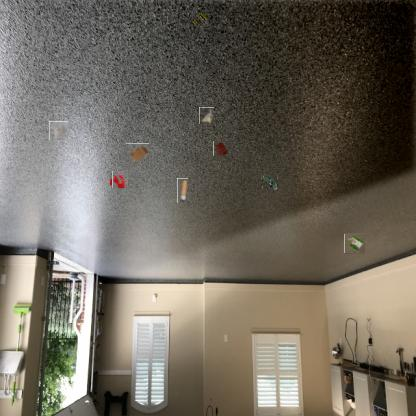dirty: (126, 143, 150, 164), (344, 233, 365, 254), (189, 7, 209, 27), (49, 121, 68, 140), (177, 178, 188, 203), (262, 174, 278, 190), (198, 108, 214, 123)
liquid: (111, 172, 127, 187), (213, 140, 228, 156)
